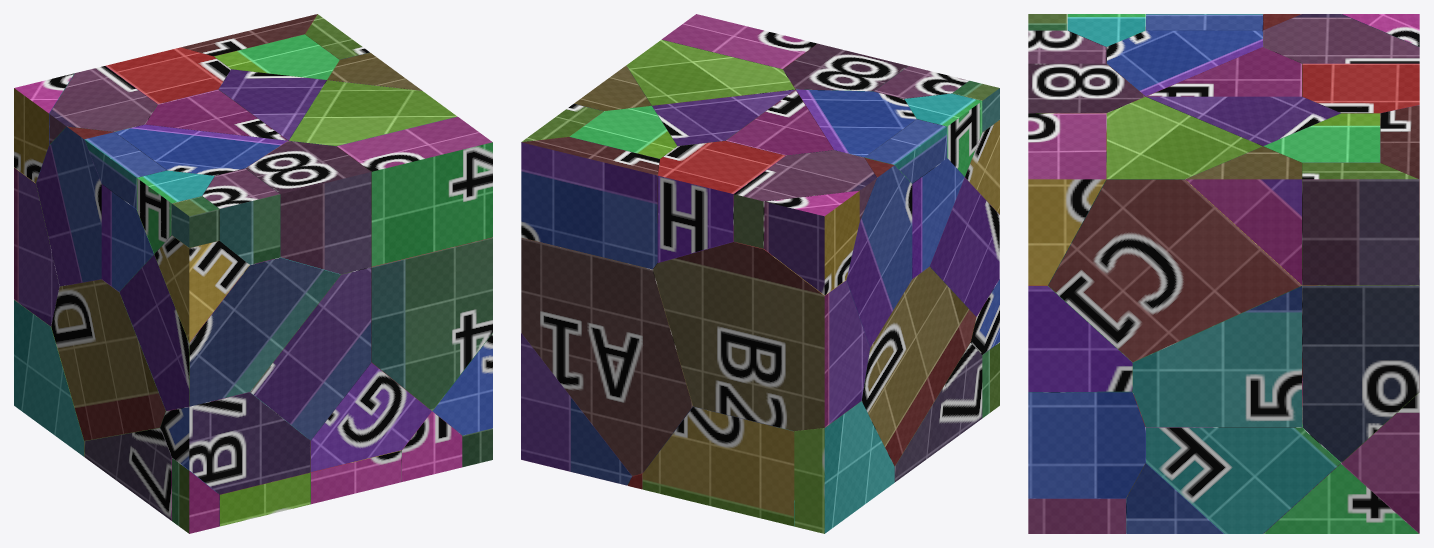
The model's file is CubeBreakVAT.glb.
The picture shows the model from 3 angles, left to right: view 1: azimuth 30°, elevation 25°; view 2: azimuth 150°, elevation 25°; view 3: azimuth 270°, elevation 25°; orthographic projection. The views are drawn at different scales.
Visible parts, largest first — view 1: export_mesh; view 2: export_mesh; view 3: export_mesh.
Boxes of the visible parts, bbox=[...] form: export_mesh: bbox=[14, 14, 492, 533]; export_mesh: bbox=[521, 14, 999, 533]; export_mesh: bbox=[1028, 14, 1419, 533].
Bounding box in the file's own units: 2 × 2 × 2.
1 material, 1 textured.
